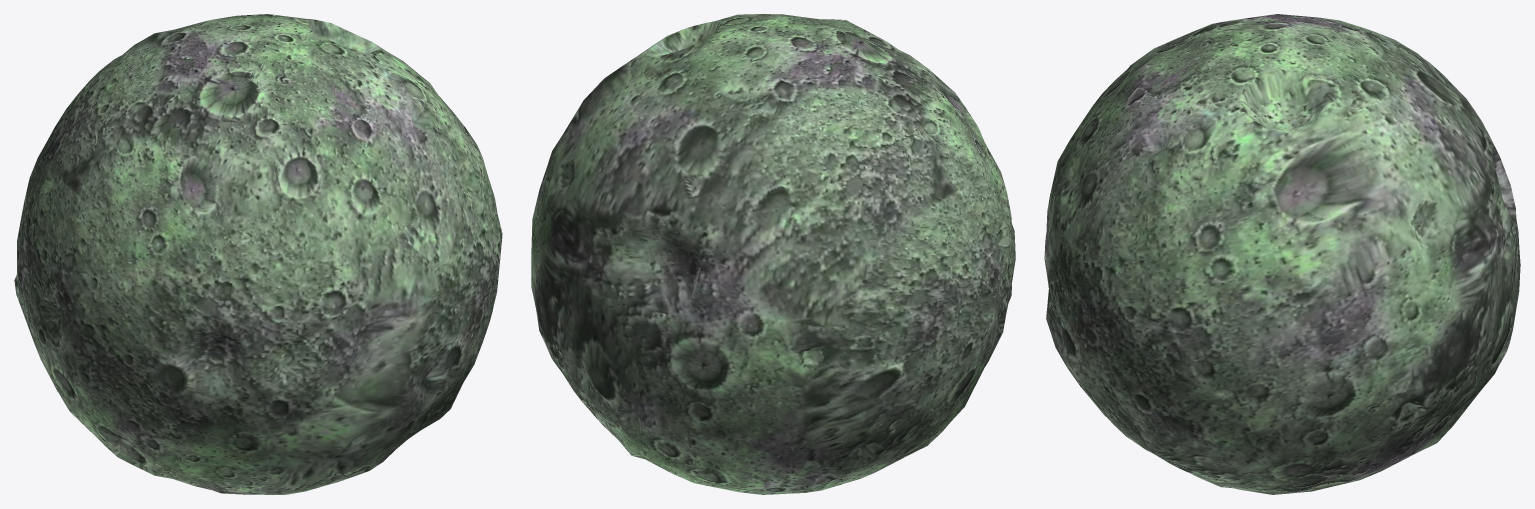
File: meteor_blue_special_03.glb
3 views of the same model, side by side, from view 1: azimuth 30°, elevation 25°; view 2: azimuth 150°, elevation 25°; view 3: azimuth 270°, elevation 25° (orthographic).
Parts seen in each view (by area): view 1: Mesh_0; view 2: Mesh_0; view 3: Mesh_0.
Boxes of the visible parts, box(x1,y1,x2,y2) form: Mesh_0: box(14, 14, 502, 494); Mesh_0: box(531, 14, 1015, 494); Mesh_0: box(1044, 14, 1520, 494).
Size of the model in its own units: 1.89 by 1.9 by 1.87.
1 material, 1 textured.
